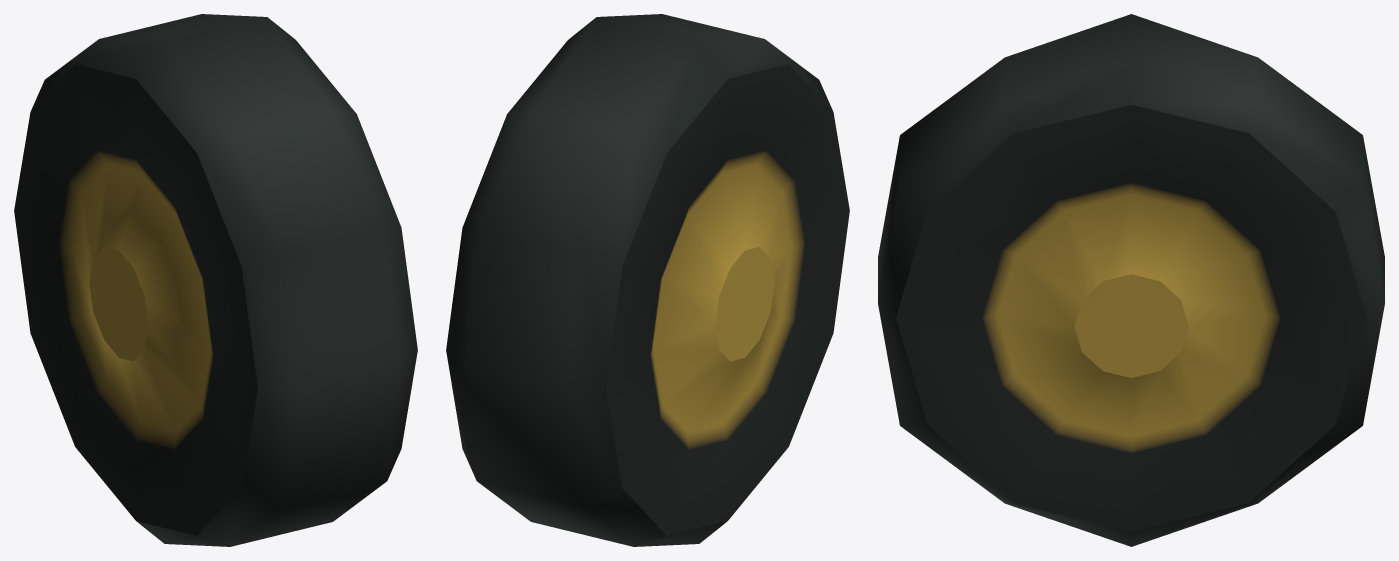
The model's file is ore_cart_wheel.glb.
3 views of the same model, side by side, from view 1: azimuth 30°, elevation 25°; view 2: azimuth 150°, elevation 25°; view 3: azimuth 270°, elevation 25° (orthographic). The views are drawn at different scales.
Parts seen in each view (by area): view 1: Tyre; view 2: Tyre; view 3: Tyre.
Part boxes in pixels (x1,y1,x2,y2): Tyre: (14,14,417,546); Tyre: (446,14,849,546); Tyre: (878,14,1384,546).
Bounding box in the file's own units: 0.34 × 0.84 × 0.796.
